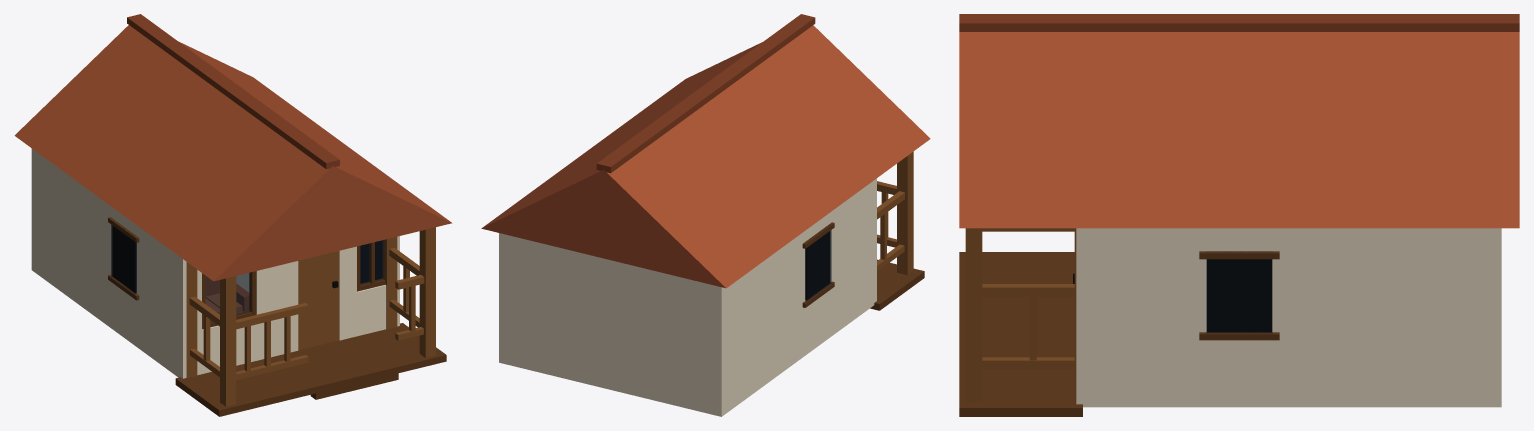
The model's file is rumah-tipe2.glb.
The picture shows the model from 3 angles, left to right: view 1: azimuth 30°, elevation 25°; view 2: azimuth 150°, elevation 25°; view 3: azimuth 270°, elevation 25°; orthographic projection. The views are drawn at different scales.
Visible parts, largest first — view 1: Roof, Body_Back, TerraceFloor, Body_SideL, RidgeCap, Door_Leaf, Body_FMid, Post_00, Post_10, Body_FMid2, SideL_Glass, Body_FSillW2 (+11 smaller); view 2: Roof, Body_Back, Body_SideL, RidgeCap, Post_00, SideL_Glass, SideL_Backing, TerraceFloor; view 3: Roof, Body_Back, Body_SideR, TerraceFloor, RidgeCap, SideR_Glass, SideR_Backing, Post_10, Body_FR, RailR_Top, RailR_Bot, SideR_FrameT (+3 smaller).
Boxes of the visible parts, x1,y1,x2,y2 form: Roof: (14, 25, 452, 281); Body_Back: (31, 148, 128, 340); TerraceFloor: (175, 323, 446, 416); Body_SideL: (129, 220, 180, 377); RidgeCap: (127, 14, 339, 169); Door_Leaf: (298, 251, 339, 350); Body_FMid: (256, 261, 298, 360); Post_00: (220, 276, 236, 406); Post_10: (419, 227, 435, 357); Body_FMid2: (339, 246, 356, 340); SideL_Glass: (111, 223, 136, 294); Body_FSillW2: (357, 284, 386, 336); Roof: (481, 25, 930, 288); Body_Back: (499, 219, 821, 416); Body_SideL: (821, 180, 874, 343); RidgeCap: (596, 14, 815, 173); Post_00: (897, 151, 913, 274); SideL_Glass: (805, 224, 831, 301); SideL_Backing: (805, 231, 830, 300); TerraceFloor: (870, 259, 924, 310); Roof: (959, 32, 1519, 228); Body_Back: (1228, 228, 1501, 407); Body_SideR: (1083, 228, 1228, 407); TerraceFloor: (959, 252, 1082, 416); RidgeCap: (959, 14, 1519, 31); SideR_Glass: (1206, 251, 1272, 333); SideR_Backing: (1207, 259, 1271, 332); Post_10: (965, 228, 982, 401); Body_FR: (1076, 228, 1082, 404); RailR_Top: (982, 284, 1074, 296); RailR_Bot: (982, 357, 1074, 368); SideR_FrameT: (1199, 251, 1279, 259).
Size of the model in its own units: 0.694 by 0.65 by 1.
